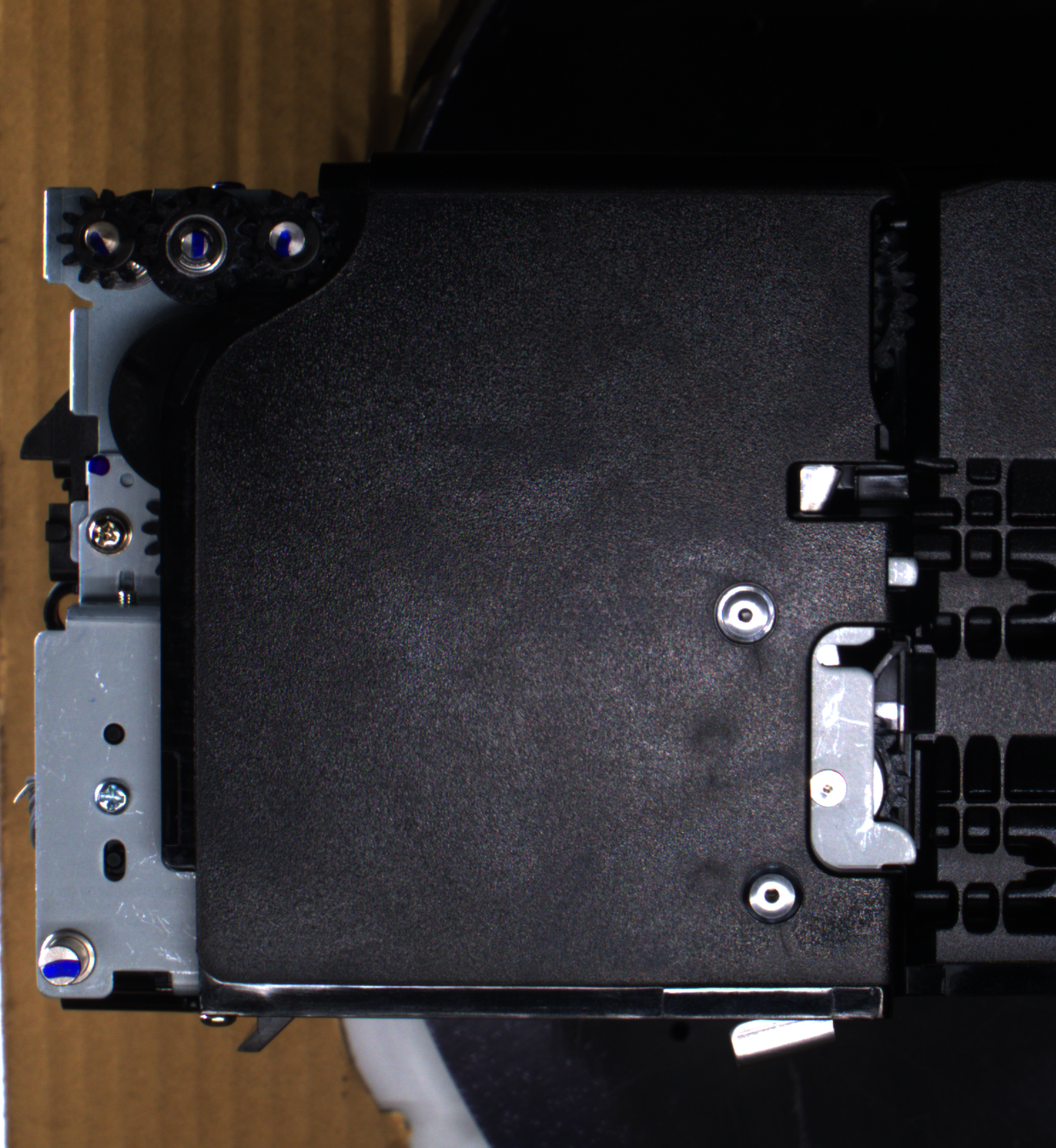centre_pin_presence: (721, 1004, 840, 1070)
centre_plate_presence: (797, 616, 928, 885)
centre_screw_presence: (709, 575, 782, 653), (736, 856, 807, 930)
gear1_presence: (55, 185, 153, 291)
gear2_presence: (140, 186, 252, 305)
gear3_presence: (237, 188, 336, 291)
side_screw_presence: (82, 505, 134, 556), (88, 770, 135, 817)
slanting_pin_presence: (32, 924, 105, 994)
